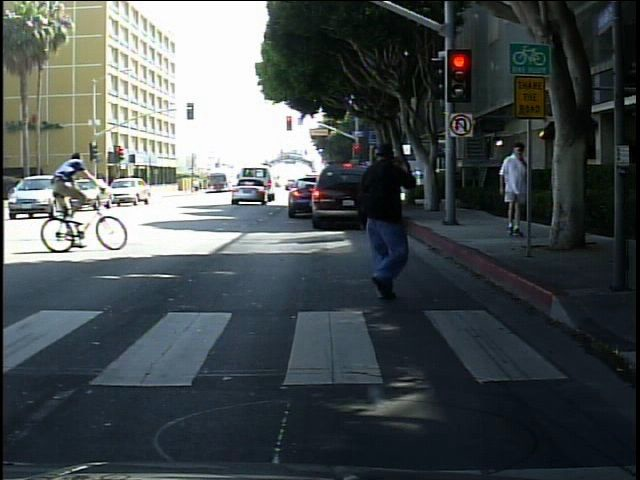person: (342, 131, 423, 310), (35, 138, 97, 243), (557, 138, 592, 245), (495, 140, 532, 238)
